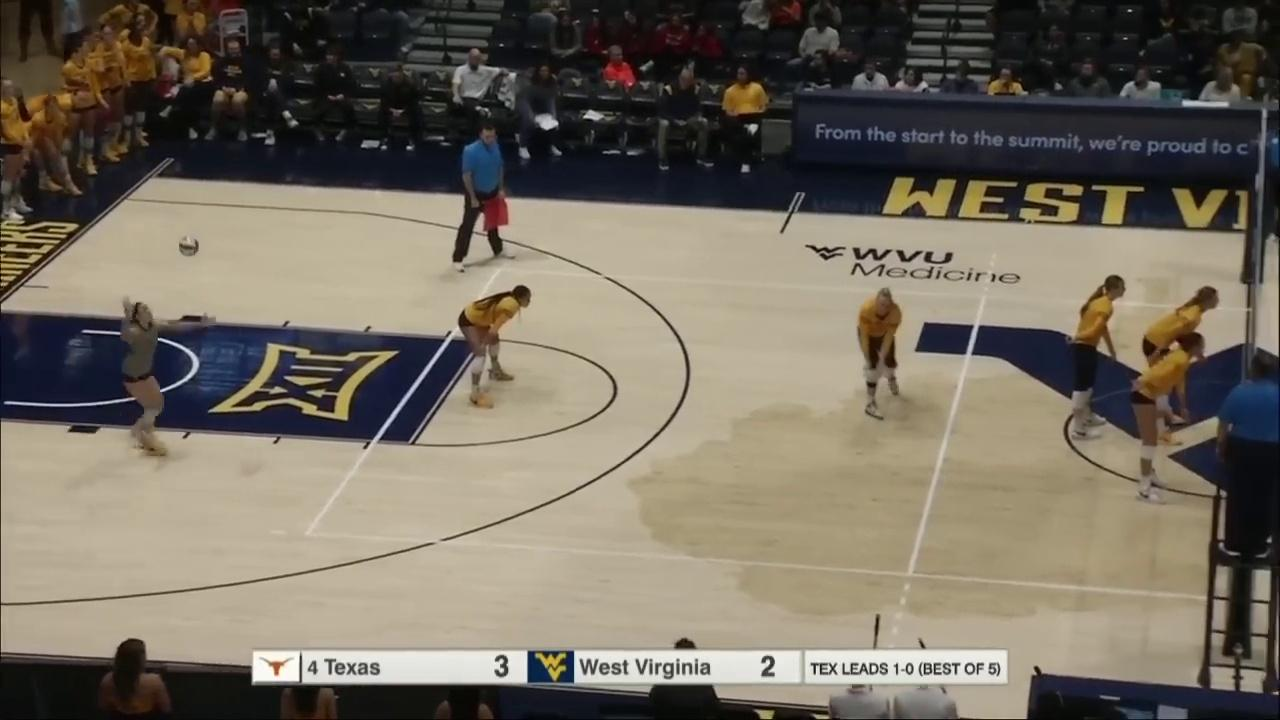player: (120, 296, 215, 458), (1129, 331, 1204, 503), (1145, 285, 1219, 445), (1069, 275, 1124, 440), (459, 287, 531, 406), (857, 287, 904, 419)
refree: (1218, 352, 1280, 555), (451, 129, 517, 272)
